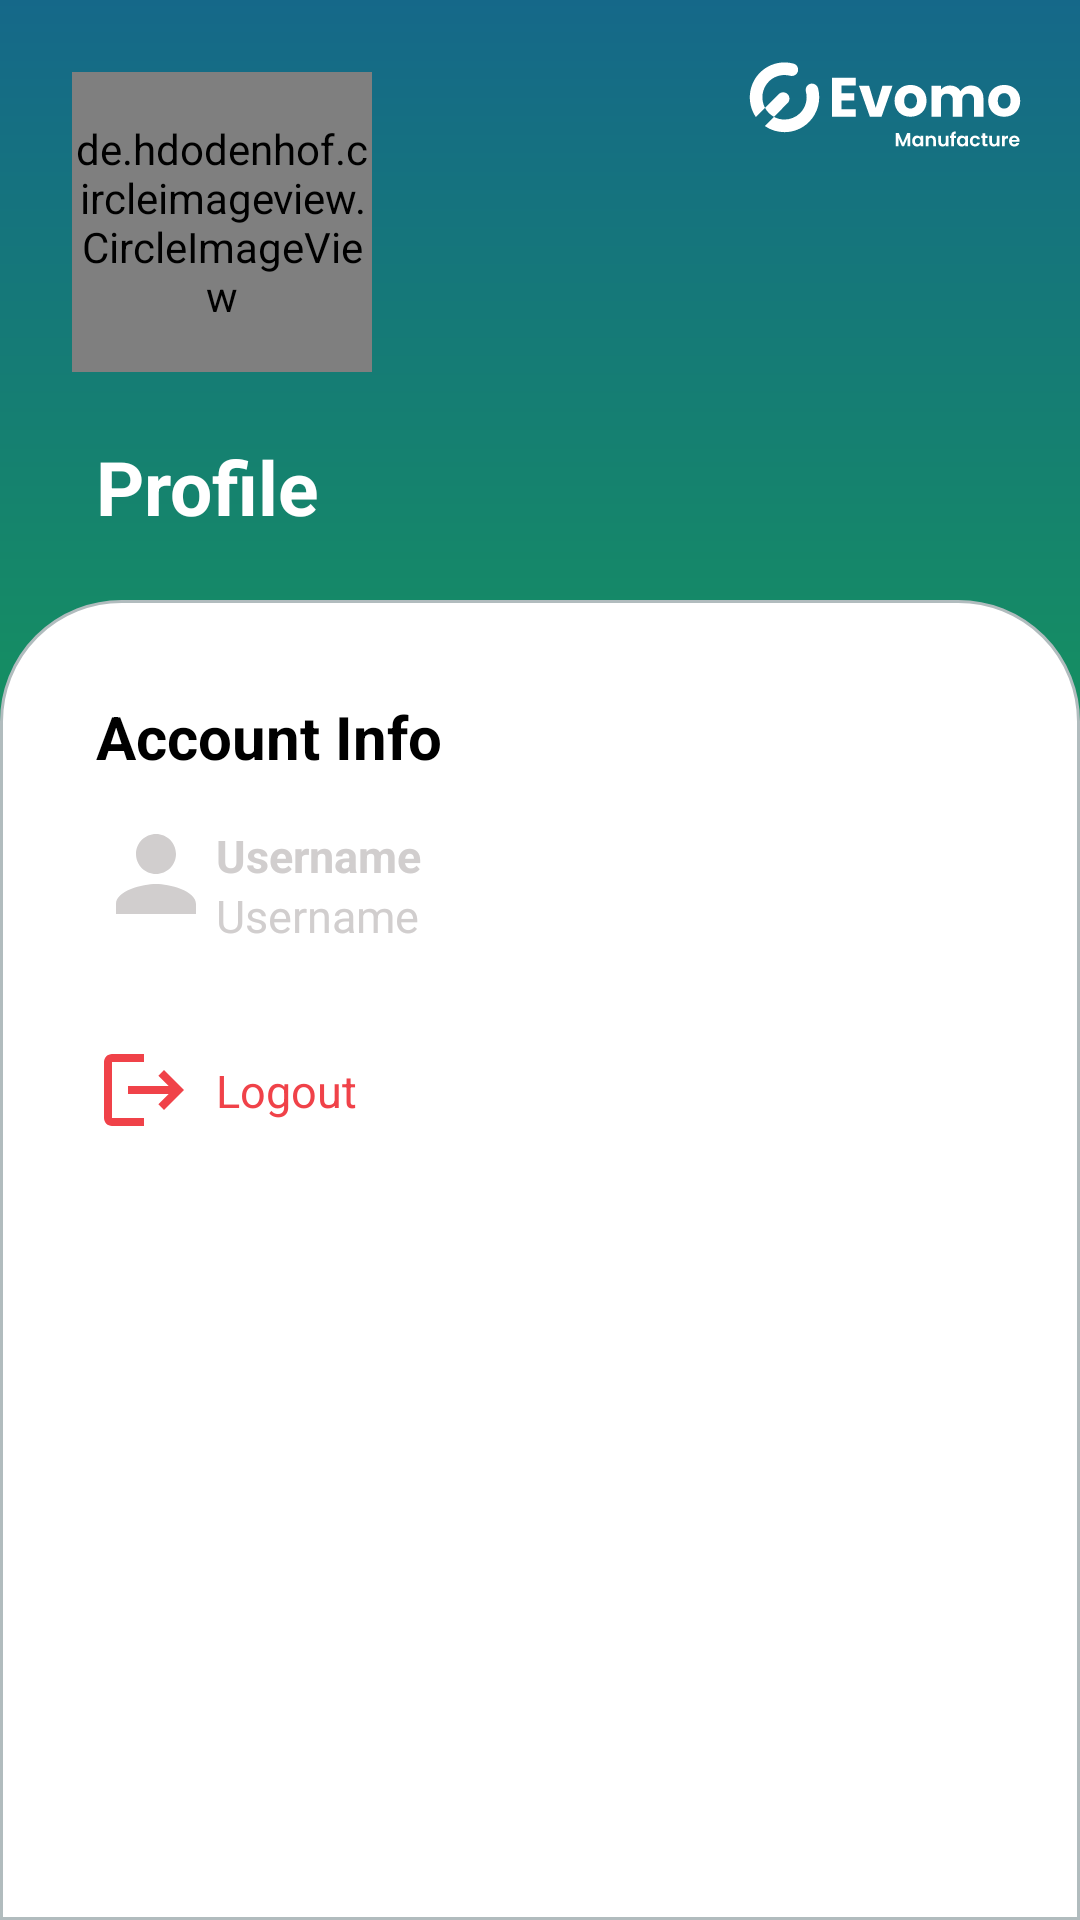

Screen size 1080px×1920px. Icon name, then its center in pixels as (x=x, y=y):
person: (x=156, y=874)
